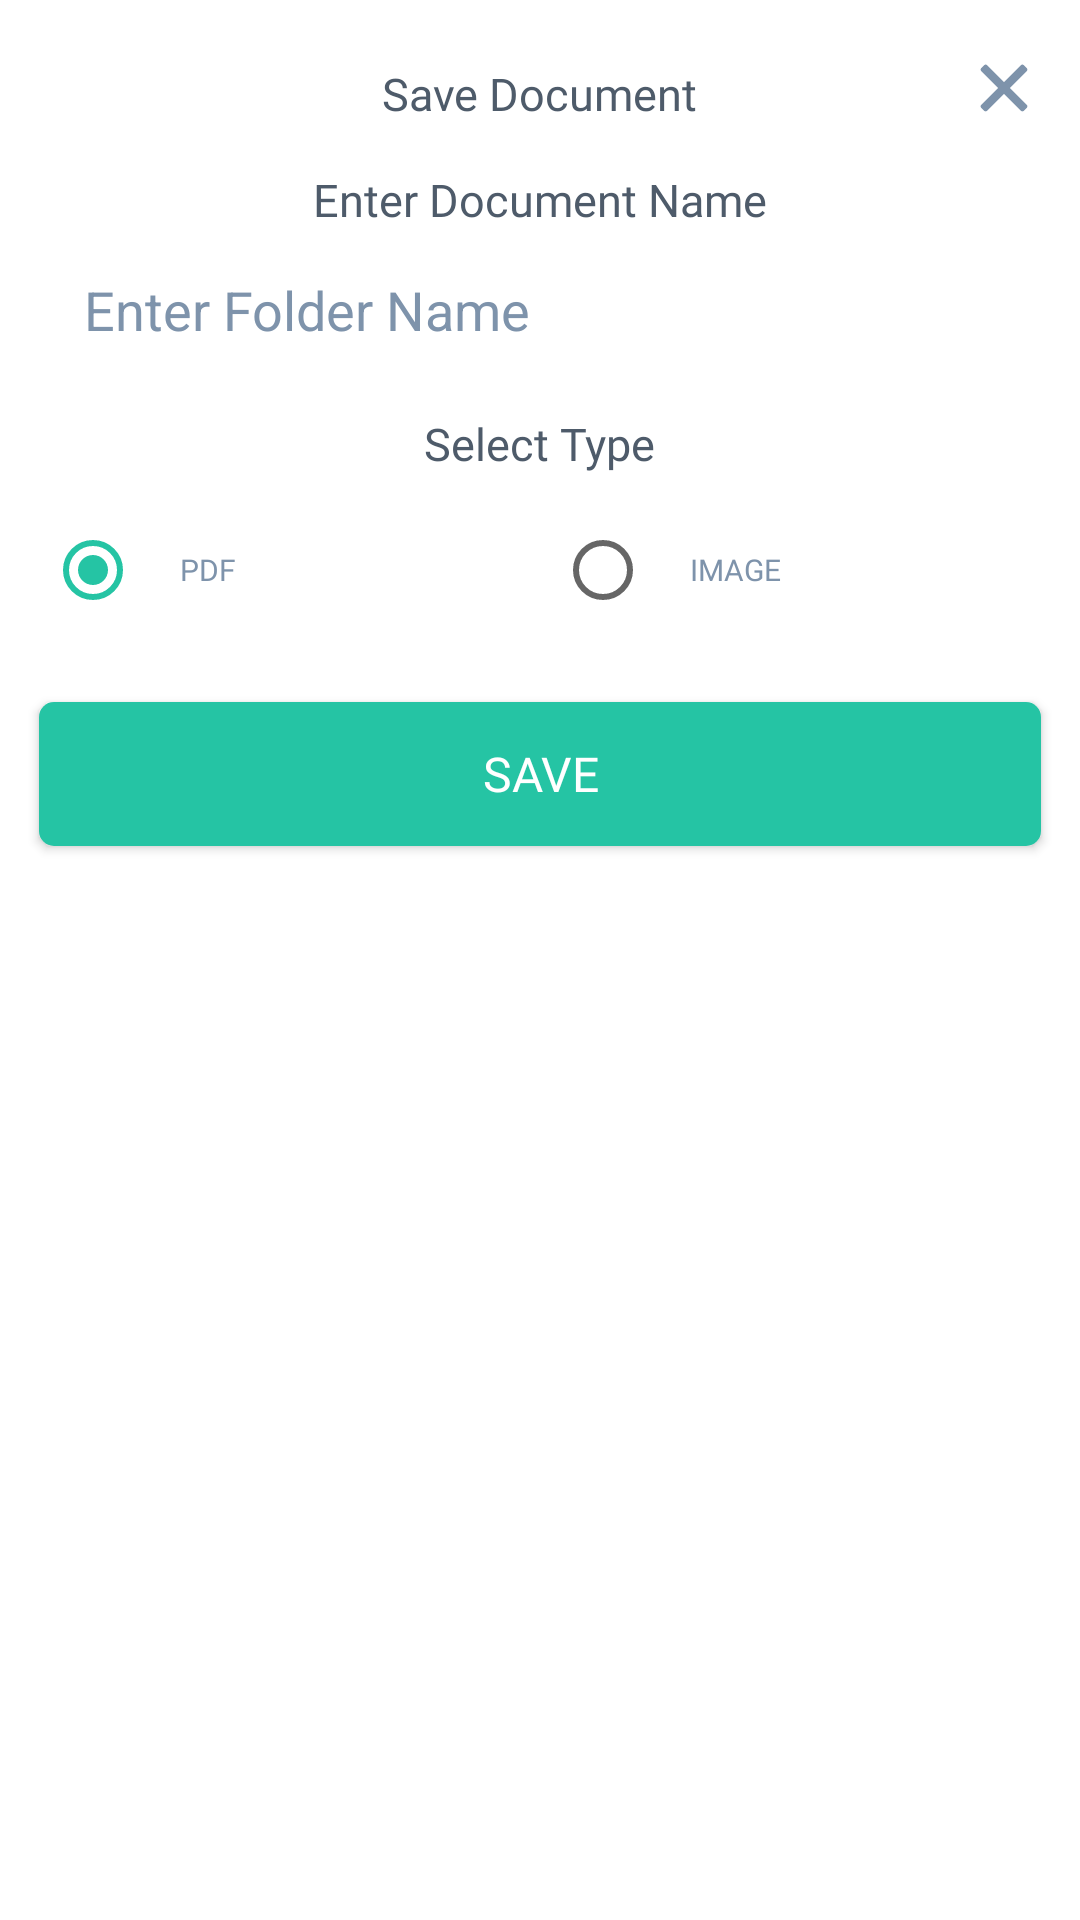

Locate icon controls on the screen. Image size 1080px×1920px, boxes as (x1, y1, x2, y2).
close: (980, 64, 1028, 112)
